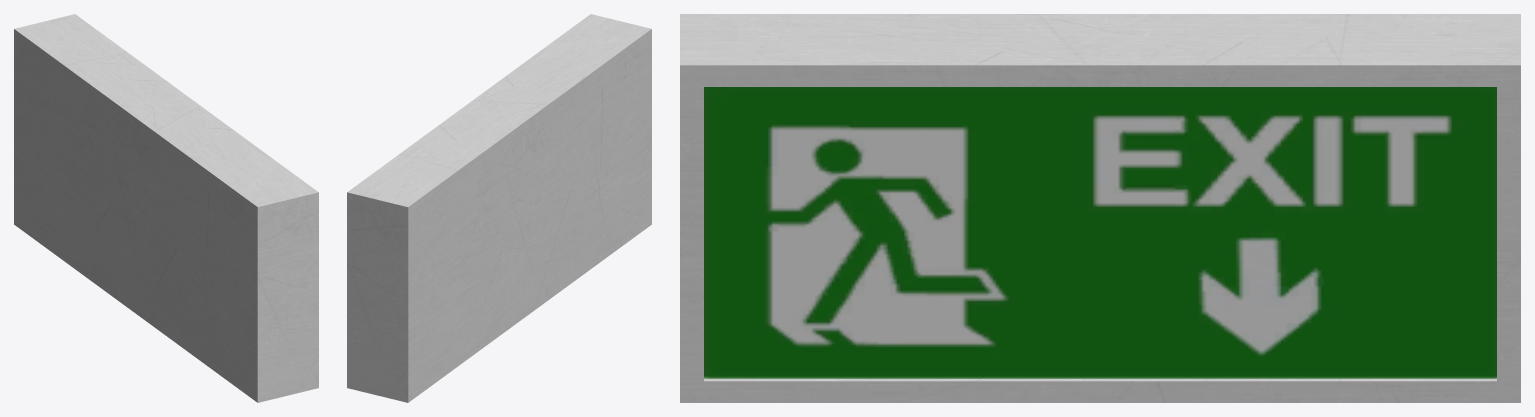
Rendered from exitSign.obj.
3 renders of one model, left to right at view 1: azimuth 30°, elevation 25°; view 2: azimuth 150°, elevation 25°; view 3: azimuth 270°, elevation 25°, orthographic. The views are drawn at different scales.
Parts seen in each view (by area): view 1: Union1; view 2: Union1; view 3: Part2, Union1, Part1.
Boxes of the visible parts, bbox=[...] form: Union1: bbox=[14, 14, 318, 402]; Union1: bbox=[347, 14, 651, 402]; Part2: bbox=[704, 87, 1496, 378]; Union1: bbox=[680, 14, 1520, 402]; Part1: bbox=[704, 87, 1496, 376].
Bounding box in the file's own units: 0.5451 × 1.67 × 3.77.
Materials: 3 (2 with a texture image).
